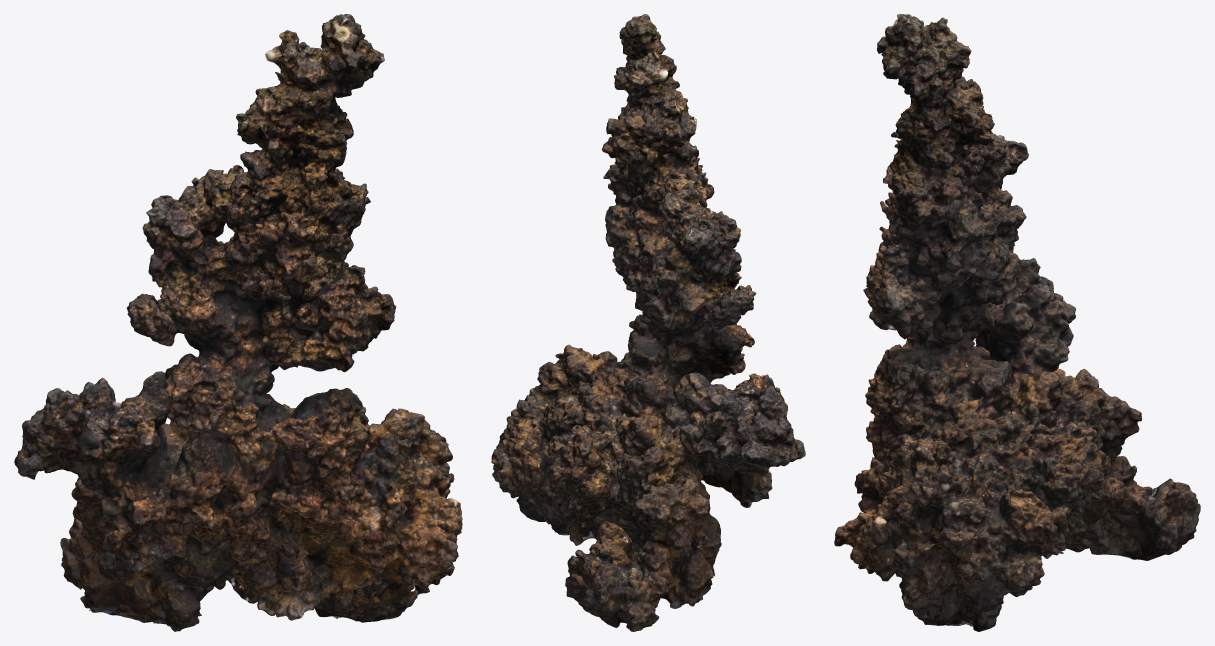
The model's file is native_copper-v1.glb.
3 renders of one model, left to right at view 1: azimuth 30°, elevation 25°; view 2: azimuth 150°, elevation 25°; view 3: azimuth 270°, elevation 25°, orthographic. The views are drawn at different scales.
Parts seen in each view (by area): view 1: Object_5, Object_6, Object_4, Object_3, Object_7; view 2: Object_6, Object_3, Object_4, Object_5, Object_7; view 3: Object_5, Object_3, Object_6, Object_4, Object_7.
Boxes of the visible parts, <box> form: Object_5: <box>23,14,462,622</box>; Object_6: <box>14,14,452,618</box>; Object_4: <box>18,14,461,628</box>; Object_3: <box>14,14,461,631</box>; Object_7: <box>19,21,449,559</box>; Object_6: <box>502,14,805,614</box>; Object_3: <box>491,17,792,631</box>; Object_4: <box>491,14,791,631</box>; Object_5: <box>491,14,785,625</box>; Object_7: <box>510,26,792,579</box>; Object_5: <box>834,14,1175,631</box>; Object_3: <box>841,16,1200,629</box>; Object_6: <box>863,14,1186,596</box>; Object_4: <box>845,14,1200,631</box>; Object_7: <box>855,30,1193,595</box>.
Size of the model in its own units: 13.18 by 19.8 by 11.18.
1 material, 1 textured.
